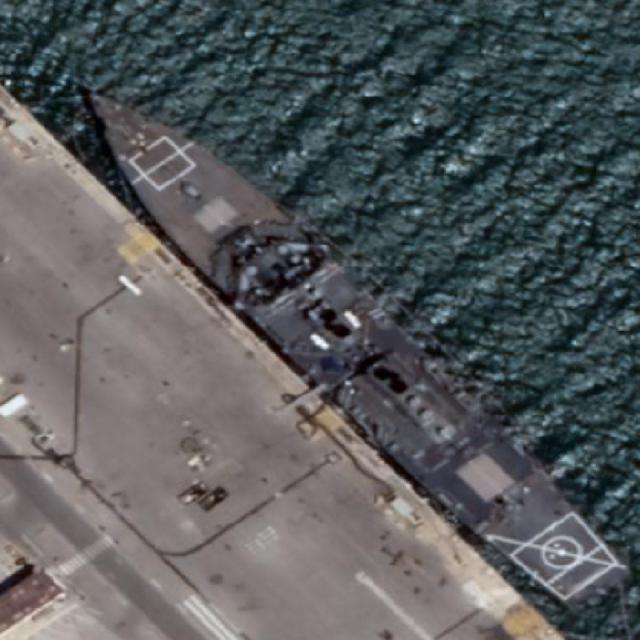Destroyer: (57, 57, 638, 626)
